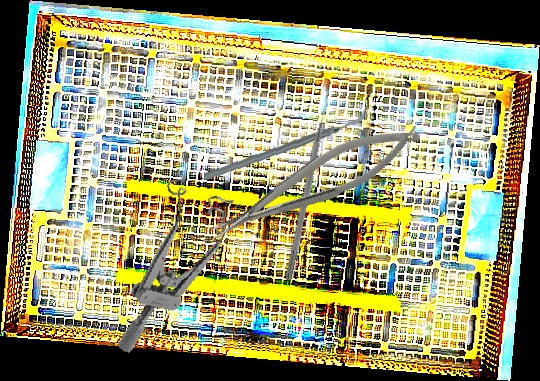Chopper: (203, 98, 369, 190)
Needle Holder: (200, 113, 430, 249)
Pusher: (284, 92, 334, 282)
Speculum: (115, 162, 240, 370)
